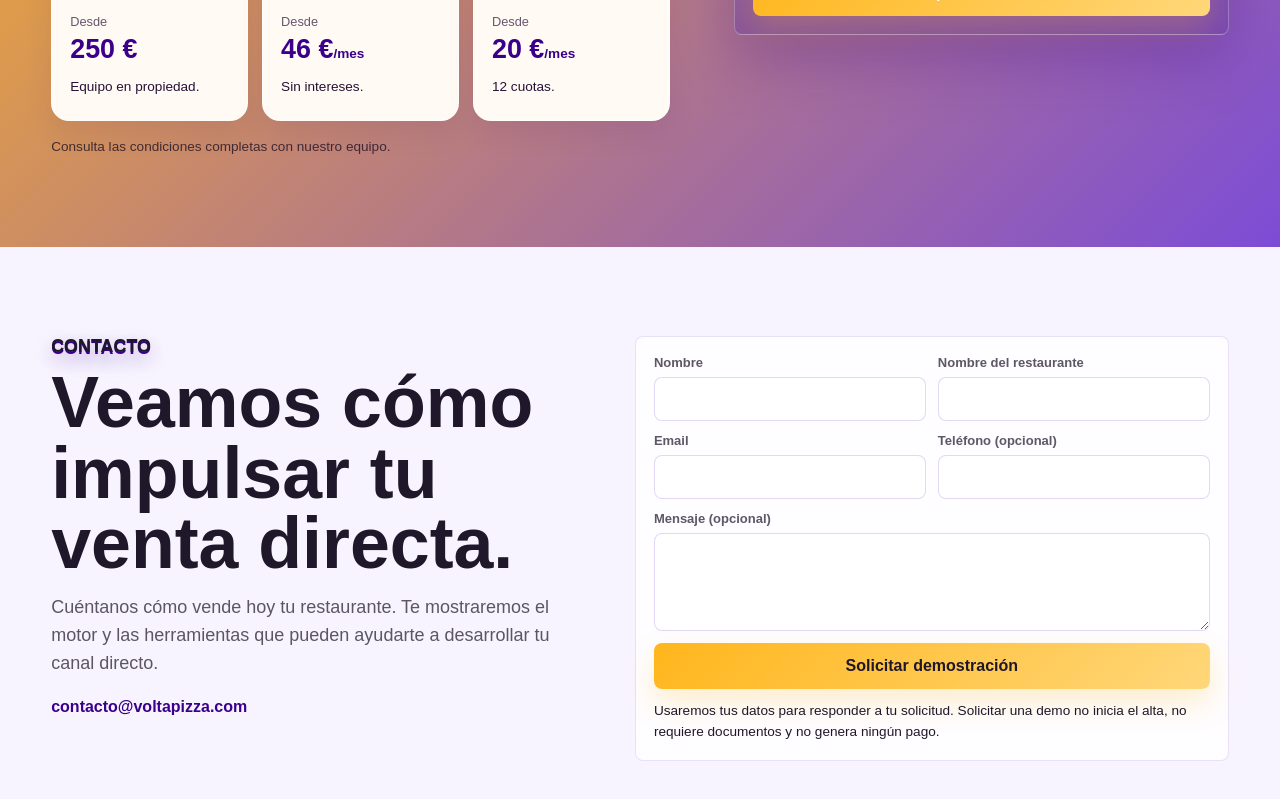
Test: landing identifies the brand, labels the demo and sends only a demo inquiry
(page scrolled)
In the field labelled "Nombre": (790, 399) [654,377,926,421], type "Ana"
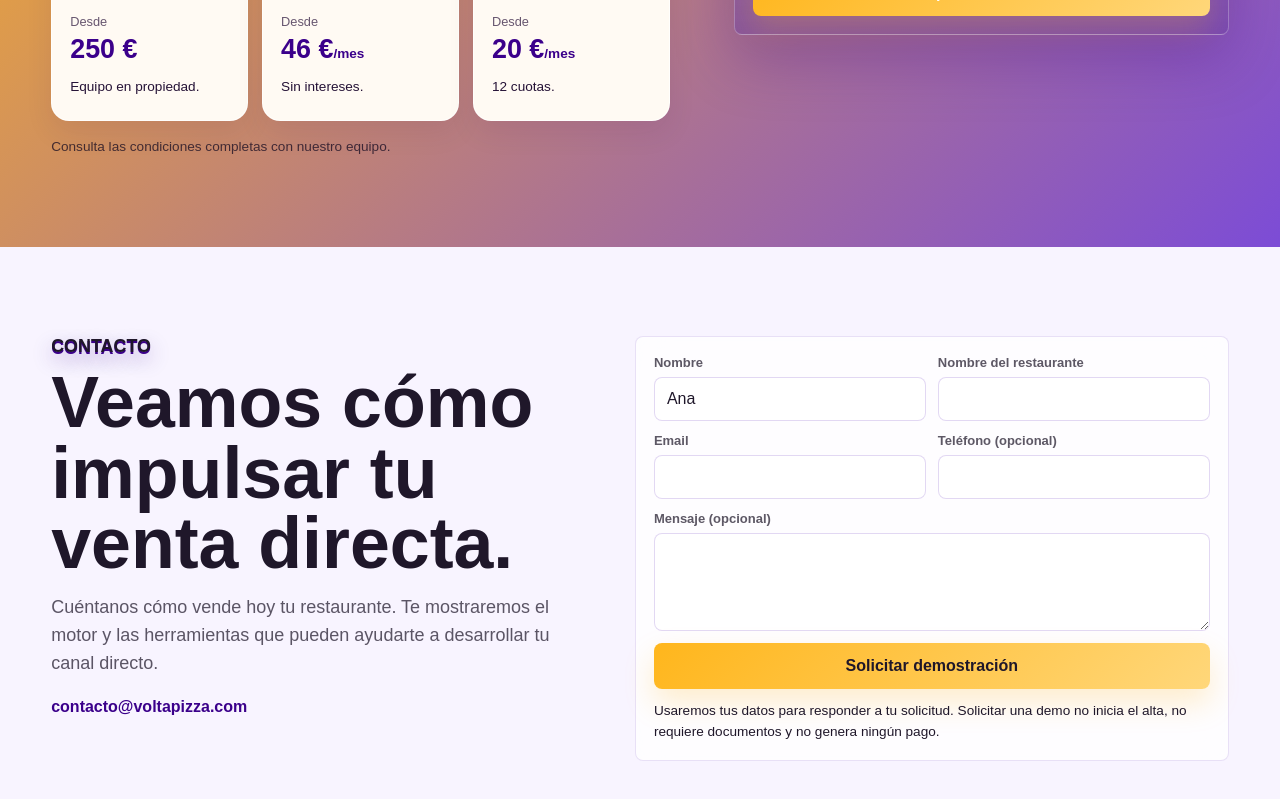
In the field labelled "Nombre del restaurante": (1074, 399) [938,377,1210,421], type "Burger Test"
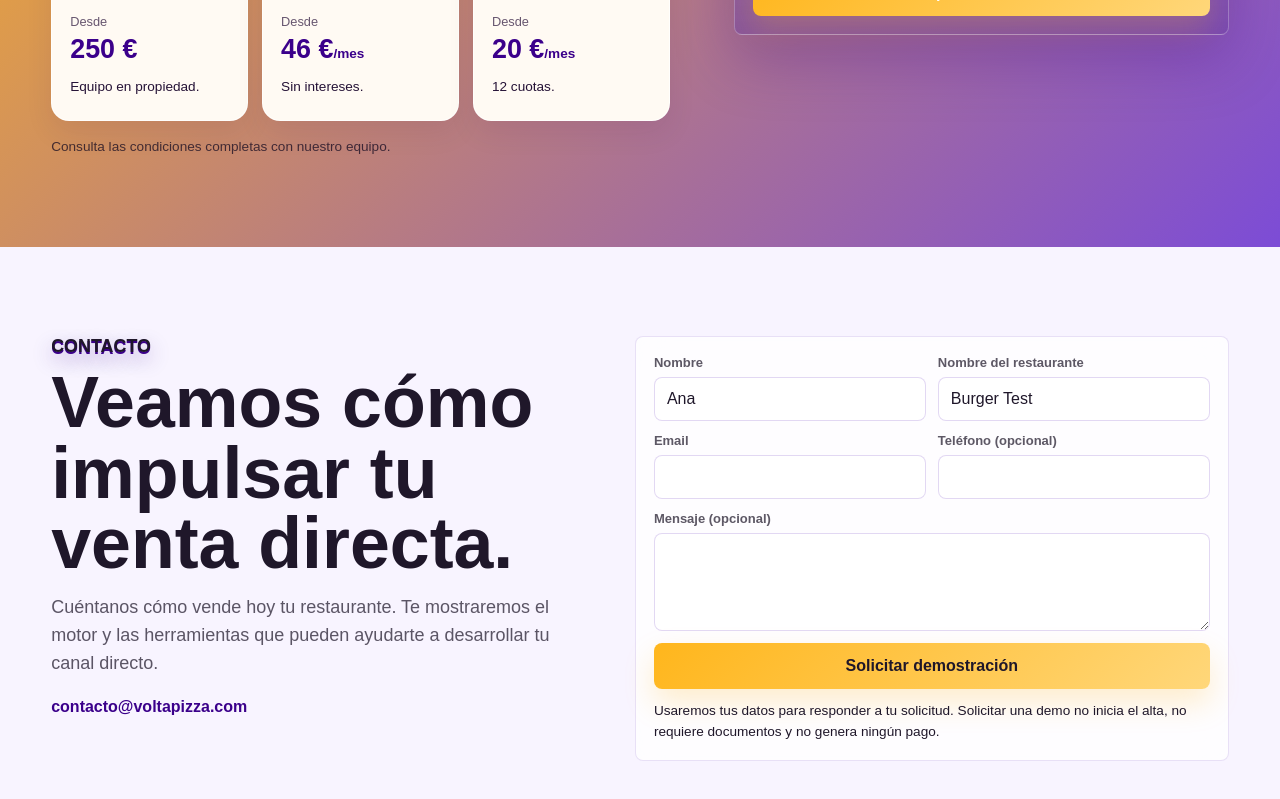
In the field labelled "Email": (790, 477) [654,455,926,499], type "ana@example.invalid"
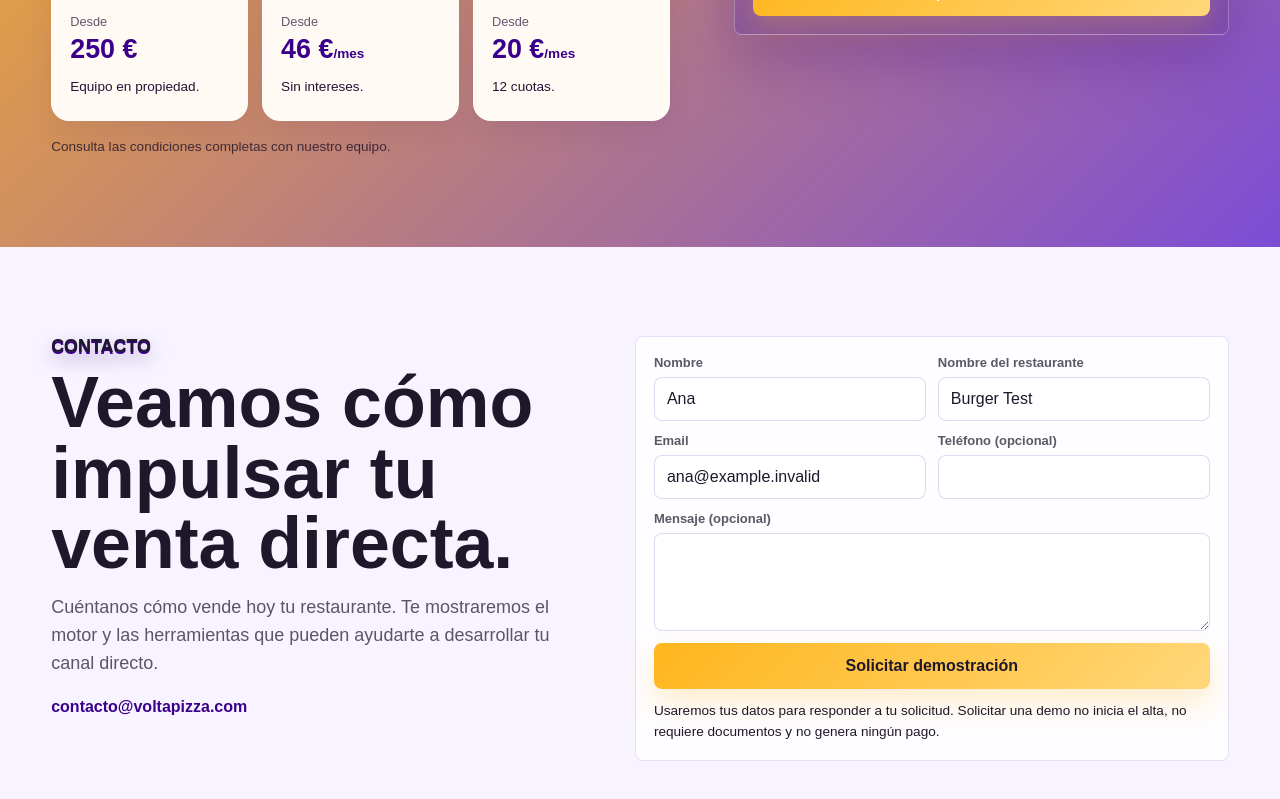
Click the button "Solicitar demostración": (932, 666) [654,643,1210,689]
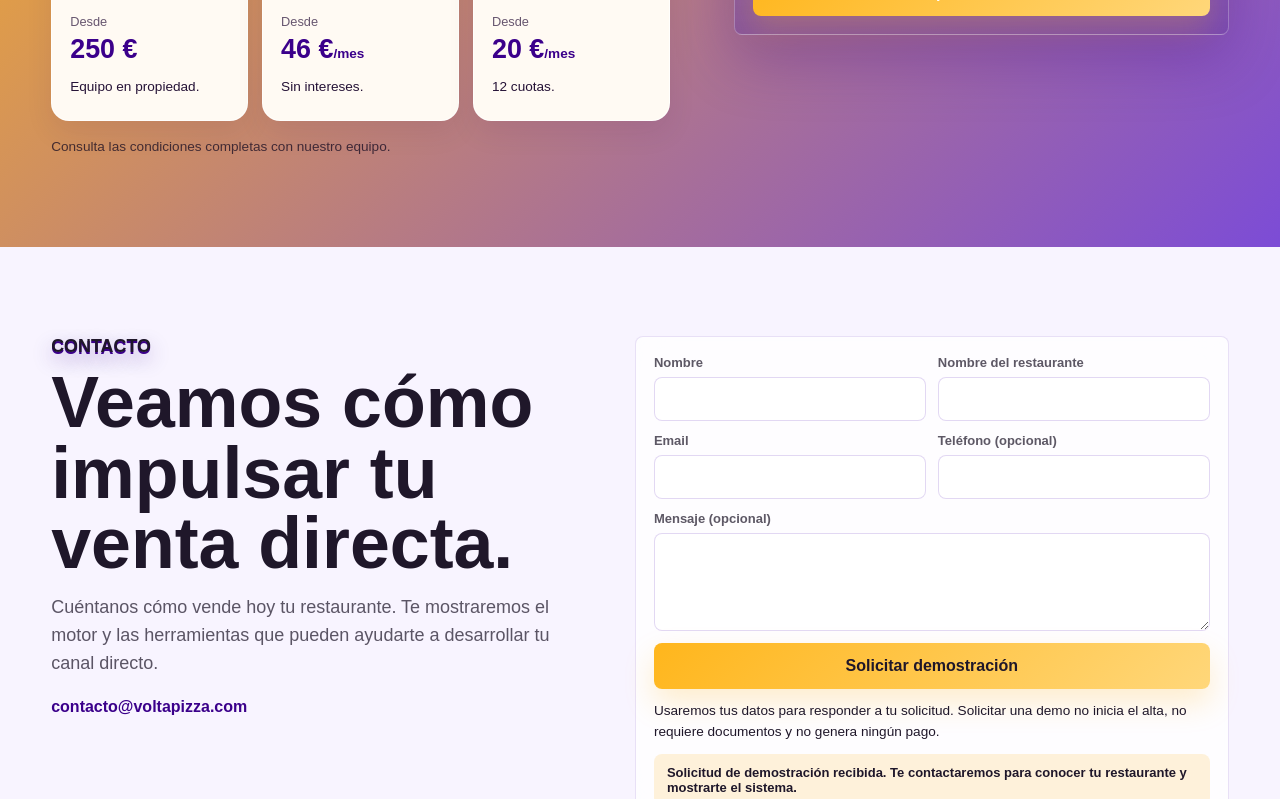
Now the text "Solicitud de demostración recibida" is shown, box [667,765,1187,795]
Now the field labelled "Email" is empty, box [654,455,926,499]
